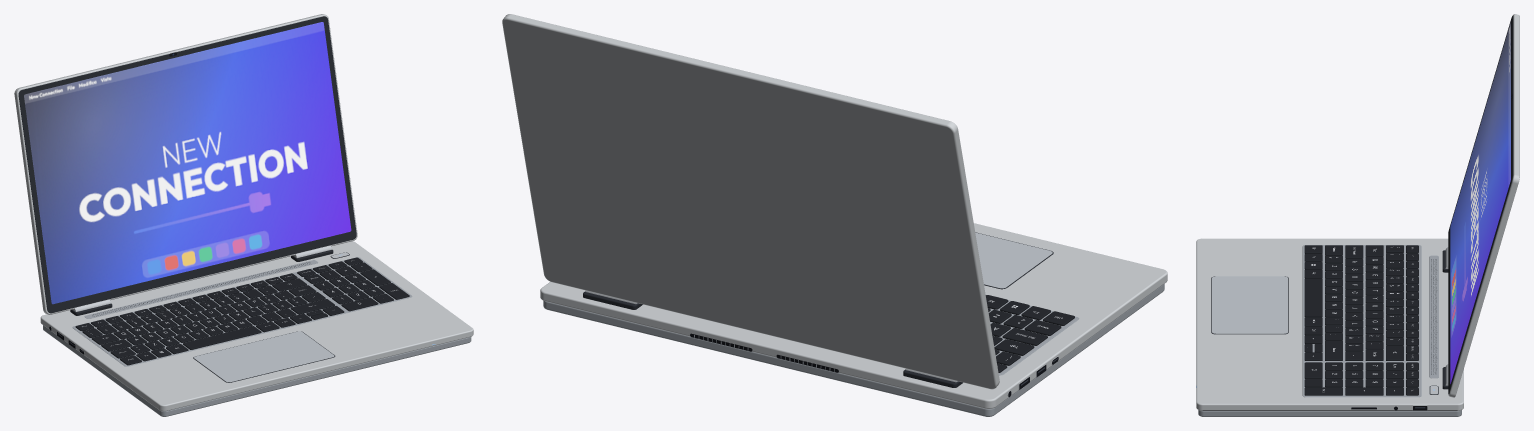
Rendered from notebook-new-connection.glb.
3 renders of one model, left to right at view 1: azimuth 30°, elevation 25°; view 2: azimuth 150°, elevation 25°; view 3: azimuth 270°, elevation 25°, orthographic. The views are drawn at different scales.
Visible parts, largest first — view 1: Active display · 16:10, Upper aluminum shell, PC keyboard · keycaps, Display bezel · graphite, Precision trackpad, Plain satin silver lid, Stepped lower shell, Silver-gray keyboard surround, Upper speaker rail, Recessed keyboard outline, PC keyboard · print; view 2: Plain satin silver lid, Upper aluminum shell, Stepped lower shell, PC keyboard · keycaps, Precision trackpad; view 3: Upper aluminum shell, PC keyboard · keycaps, Active display · 16:10, Precision trackpad, Silver-gray keyboard surround, Plain satin silver lid, Display bezel · graphite, Stepped lower shell, Upper speaker rail, Recessed keyboard outline, PC keyboard · print.
Boxes of the visible parts, x1=… form: Active display · 16:10: x1=24, y1=22, x2=351, y2=304; Upper aluminum shell: x1=40, y1=241, x2=473, y2=411; PC keyboard · keycaps: x1=75, y1=257, x2=409, y2=365; Display bezel · graphite: x1=18, y1=16, x2=356, y2=313; Precision trackpad: x1=194, y1=331, x2=334, y2=382; Plain satin silver lid: x1=14, y1=14, x2=357, y2=314; Stepped lower shell: x1=43, y1=325, x2=471, y2=416; Silver-gray keyboard surround: x1=73, y1=257, x2=411, y2=366; Upper speaker rail: x1=84, y1=260, x2=318, y2=318; Recessed keyboard outline: x1=72, y1=257, x2=412, y2=366; PC keyboard · print: x1=82, y1=260, x2=397, y2=360; Plain satin silver lid: x1=502, y1=14, x2=999, y2=389; Upper aluminum shell: x1=540, y1=223, x2=1167, y2=408; Stepped lower shell: x1=543, y1=284, x2=1164, y2=416; PC keyboard · keycaps: x1=985, y1=295, x2=1074, y2=372; Precision trackpad: x1=975, y1=232, x2=1052, y2=288; Upper aluminum shell: x1=1196, y1=238, x2=1463, y2=410; PC keyboard · keycaps: x1=1304, y1=245, x2=1418, y2=395; Active display · 16:10: x1=1450, y1=22, x2=1510, y2=383; Precision trackpad: x1=1212, y1=276, x2=1287, y2=333; Silver-gray keyboard surround: x1=1303, y1=245, x2=1420, y2=396; Plain satin silver lid: x1=1448, y1=14, x2=1519, y2=397; Display bezel · graphite: x1=1448, y1=15, x2=1513, y2=394; Stepped lower shell: x1=1198, y1=410, x2=1461, y2=416; Upper speaker rail: x1=1429, y1=255, x2=1438, y2=378; Recessed keyboard outline: x1=1302, y1=245, x2=1421, y2=397; PC keyboard · print: x1=1311, y1=247, x2=1413, y2=392.
Bounding box in the file's own units: 0.3588 × 0.2434 × 0.2951.
Materials: 15 (3 with a texture image).
